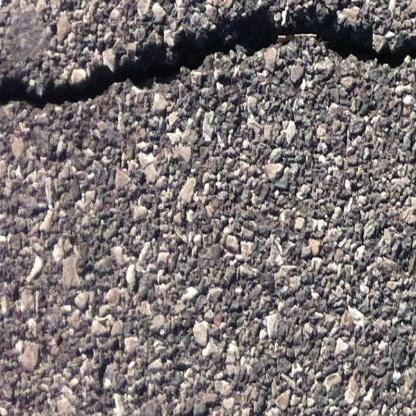Cracks: (0, 1, 416, 112)
